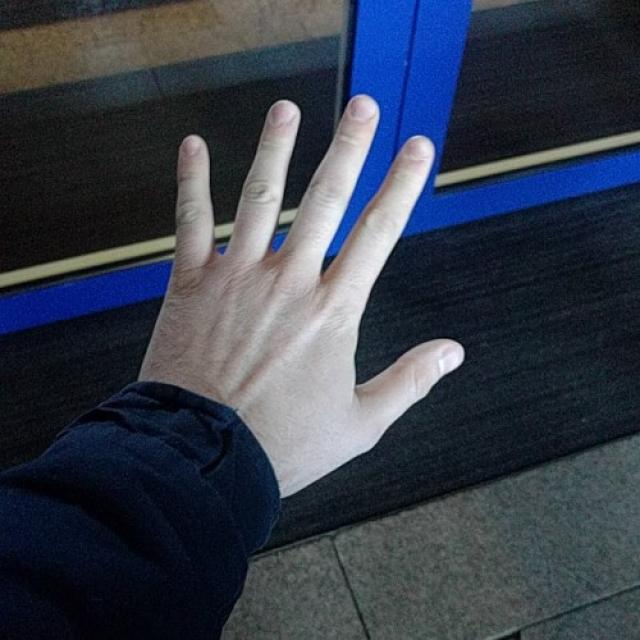paper: (133, 91, 463, 500)
